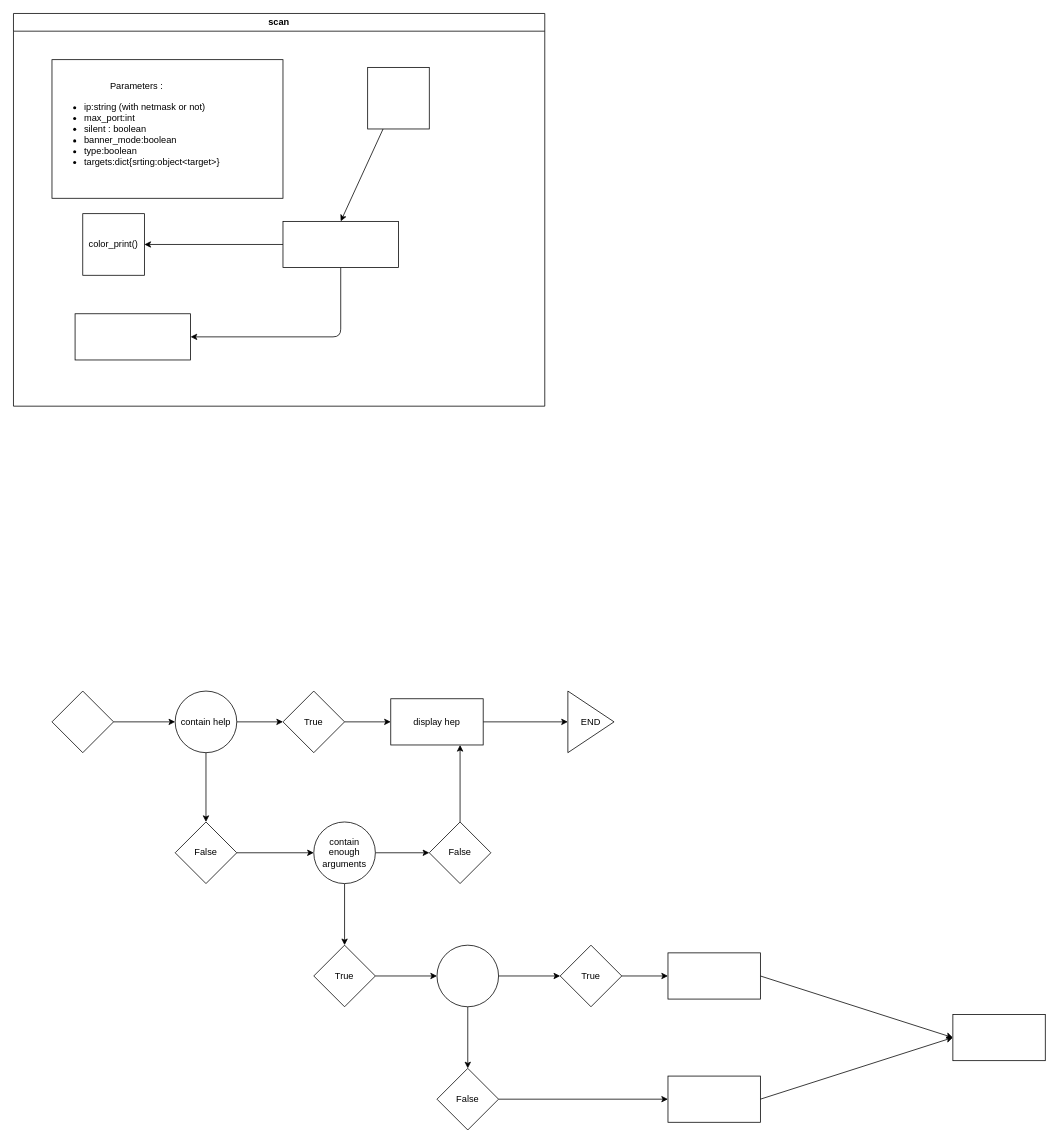
The diagram is 1059 pixels wide and 1143 high, and some of its shapes have lost their labels. The shapes that lost their labels are listed below. From the top down, each one's centre as x and y in pixels, then its label:
At point (398, 98): "init()".
At point (340, 244): "ping_sweep_launcher()".
At point (132, 336): "print_starting_message()".
At point (82, 721): "launch".
At point (467, 975): "Silent mode".
At point (713, 975): "default mode (silent)".
At point (713, 1098): "verbose mode".
